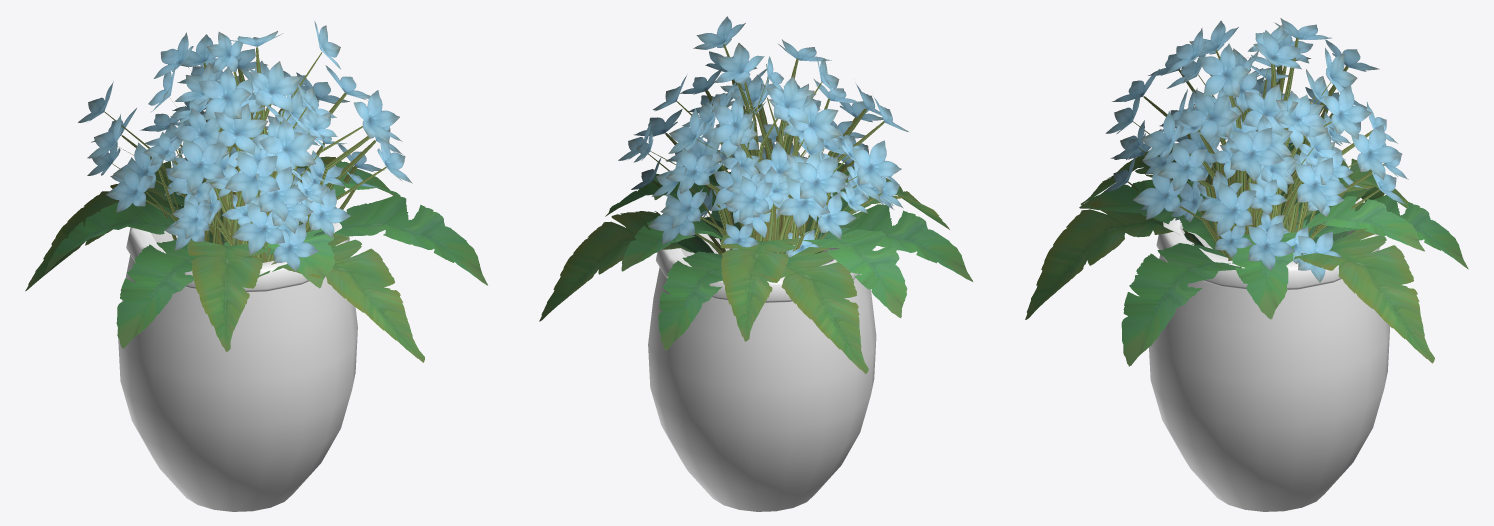
Rendered from SM_Potted_Blue_Flower_A.fbx.
3 views of the same model, side by side, from view 1: azimuth 30°, elevation 25°; view 2: azimuth 150°, elevation 25°; view 3: azimuth 270°, elevation 25° (orthographic). The views are drawn at different scales.
Parts seen in each view (by area): view 1: SM_Potted_Blue_Flower_A_LOD0; view 2: SM_Potted_Blue_Flower_A_LOD0; view 3: SM_Potted_Blue_Flower_A_LOD0.
Part boxes in pixels (bbox=[...]): SM_Potted_Blue_Flower_A_LOD0: bbox=[25, 21, 487, 511]; SM_Potted_Blue_Flower_A_LOD0: bbox=[539, 16, 972, 511]; SM_Potted_Blue_Flower_A_LOD0: bbox=[1025, 18, 1468, 511].
Bounding box in the file's own units: 113 × 121 × 137.
2 materials, 1 textured.
